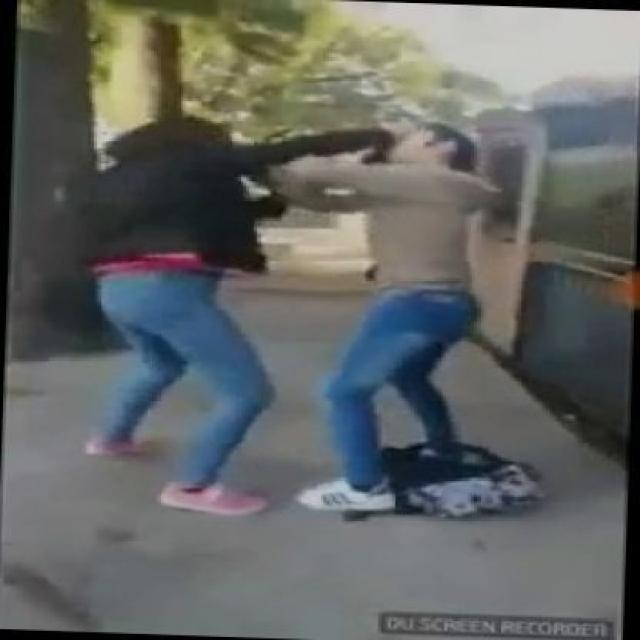fight: (82, 105, 500, 517)
